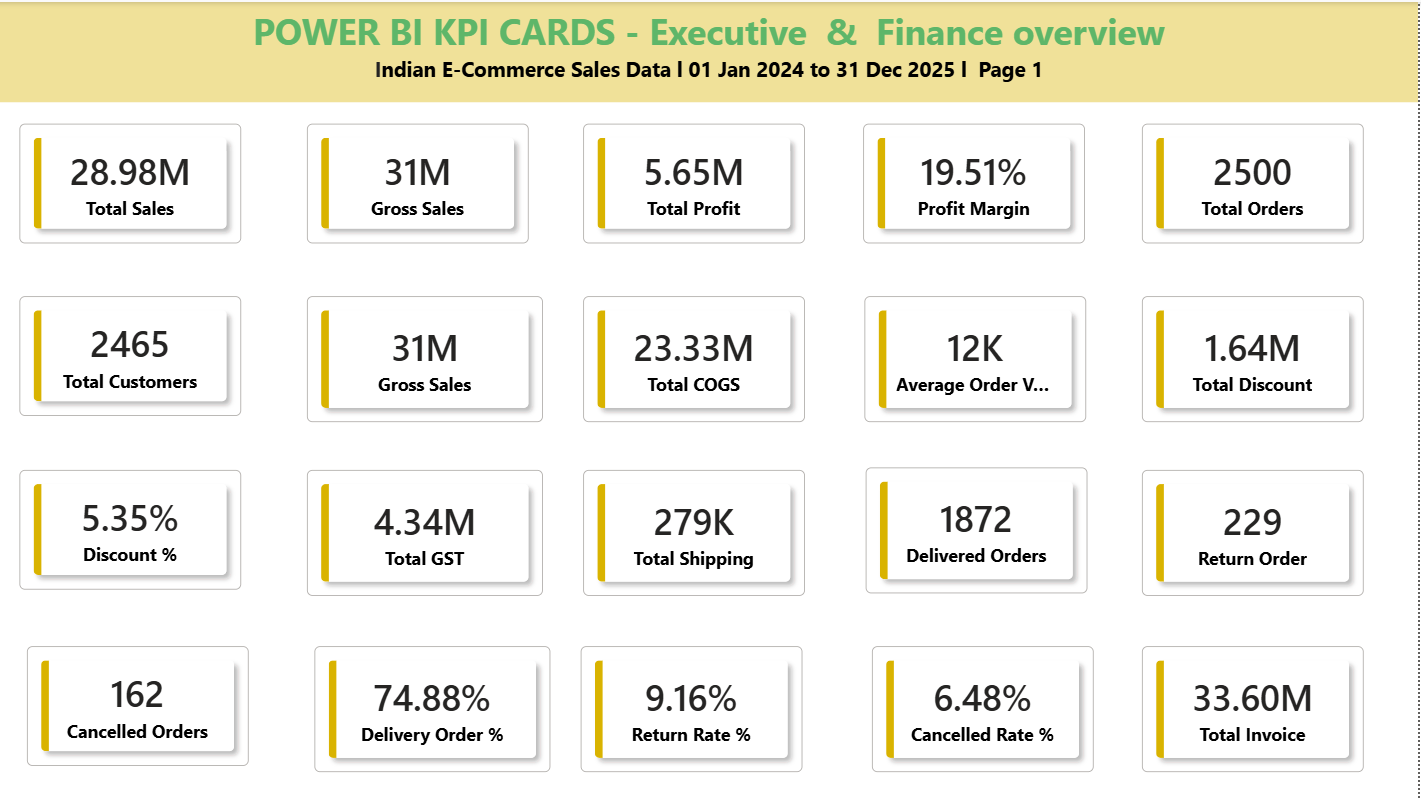

The page's visual inventory and layout, read from the dashboard file:
{"tool":"powerbi","page":{"name":"KPI","canvas":[1280,720],"ordinal":0},"visuals":[{"type":"cardVisual","fields":{"Data":["Measure_Table.Gross Profit"]},"box":[259.2,91,236,144.3],"z":0},{"type":"cardVisual","fields":{"Data":["Measure_Table.Total Margin"]},"box":[760.6,91,236,144.3],"z":1000},{"type":"cardVisual","fields":{"Data":["Measure_Table.Total Orders"]},"box":[1012.5,91,236,144.3],"z":2000},{"type":"cardVisual","fields":{"Data":["Measure_Table.Total Customers"]},"box":[0,247,236,144.3],"z":3000},{"type":"cardVisual","fields":{"Data":["Measure_Table.Total Profit"]},"box":[508.7,91,236,144.3],"z":4000},{"type":"cardVisual","fields":{"Data":["Measure_Table.Total Sales"]},"box":[0,91,236,144.3],"z":5000},{"type":"cardVisual","fields":{"Data":["Measure_Table.Gross Sales"]},"box":[259.2,247,249.5,150.4],"z":6000},{"type":"cardVisual","fields":{"Data":["Measure_Table.Total COGS"]},"box":[508.7,247,236,150],"z":7000},{"type":"cardVisual","fields":{"Data":["Measure_Table.Average Order Value"]},"box":[761.8,247,236,150.4],"z":8000},{"type":"cardVisual","fields":{"Data":["Measure_Table.Total Discount"]},"box":[1012.5,247,236,150.4],"z":9000},{"type":"cardVisual","fields":{"Data":["Measure_Table.Cancelled Orders"]},"box":[7.1,562.2,236,144.3],"z":10000},{"type":"cardVisual","fields":{"Data":["Measure_Table.Delivery Order %"]},"box":[266.3,562.2,249.5,150.4],"z":11000},{"type":"cardVisual","fields":{"Data":["Measure_Table.Return Rate %"]},"box":[505.8,562,236,150.4],"z":12000},{"type":"cardVisual","fields":{"Data":["Measure_Table.Cancelled Rate %"]},"box":[768.9,562.2,236,150.4],"z":13000},{"type":"cardVisual","fields":{"Data":["Measure_Table.Discount %"]},"box":[-0.1,404,236,144.3],"z":14000},{"type":"cardVisual","fields":{"Data":["Measure_Table.Total GST"]},"box":[259.2,404,249.5,150.4],"z":15000},{"type":"cardVisual","fields":{"Data":["Measure_Table.Total Shipping"]},"box":[508.6,404,236,150],"z":16000},{"type":"cardVisual","fields":{"Data":["Measure_Table.Delivered Orders"]},"box":[763,401.1,236,150.4],"z":17000},{"type":"cardVisual","fields":{"Data":["Measure_Table.Return Order"]},"box":[1012.5,404,236,150.4],"z":18000},{"type":"cardVisual","fields":{"Data":["Measure_Table.Total Invoice"]},"box":[1012.5,562.2,236,150.4],"z":19000},{"type":"textbox","box":[0,0,1280.3,90.5],"z":19001}]}

Visuals, with their boxes in screenshot pixels (x1, y1, x2, y2), scaled from the page's 1280x720 canvas onto the 1421x799 screenshot:
cardVisual - Measure_Table.Gross Profit: 288,101,550,261
cardVisual - Measure_Table.Total Margin: 844,101,1106,261
cardVisual - Measure_Table.Total Orders: 1124,101,1386,261
cardVisual - Measure_Table.Total Customers: 0,274,262,434
cardVisual - Measure_Table.Total Profit: 565,101,827,261
cardVisual - Measure_Table.Total Sales: 0,101,262,261
cardVisual - Measure_Table.Gross Sales: 288,274,565,441
cardVisual - Measure_Table.Total COGS: 565,274,827,441
cardVisual - Measure_Table.Average Order Value: 846,274,1108,441
cardVisual - Measure_Table.Total Discount: 1124,274,1386,441
cardVisual - Measure_Table.Cancelled Orders: 8,624,270,784
cardVisual - Measure_Table.Delivery Order %: 296,624,573,791
cardVisual - Measure_Table.Return Rate %: 562,624,824,791
cardVisual - Measure_Table.Cancelled Rate %: 854,624,1116,791
cardVisual - Measure_Table.Discount %: 0,448,262,608
cardVisual - Measure_Table.Total GST: 288,448,565,615
cardVisual - Measure_Table.Total Shipping: 565,448,827,615
cardVisual - Measure_Table.Delivered Orders: 847,445,1109,612
cardVisual - Measure_Table.Return Order: 1124,448,1386,615
cardVisual - Measure_Table.Total Invoice: 1124,624,1386,791
textbox: 0,0,1420,100
